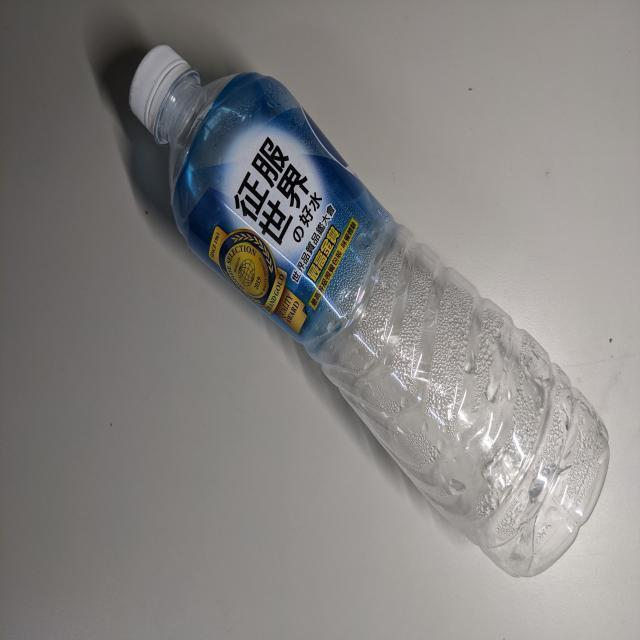Plastic: (132, 42, 610, 576)
